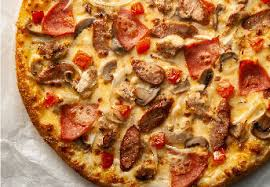pizza: (16, 1, 270, 187)
